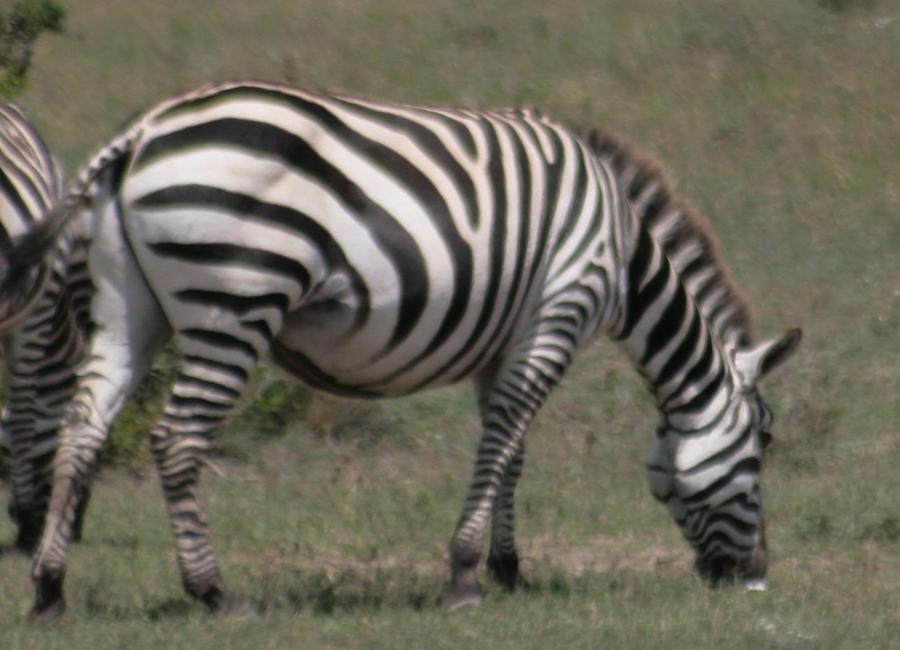zebra_plains: (110, 56, 660, 396)
